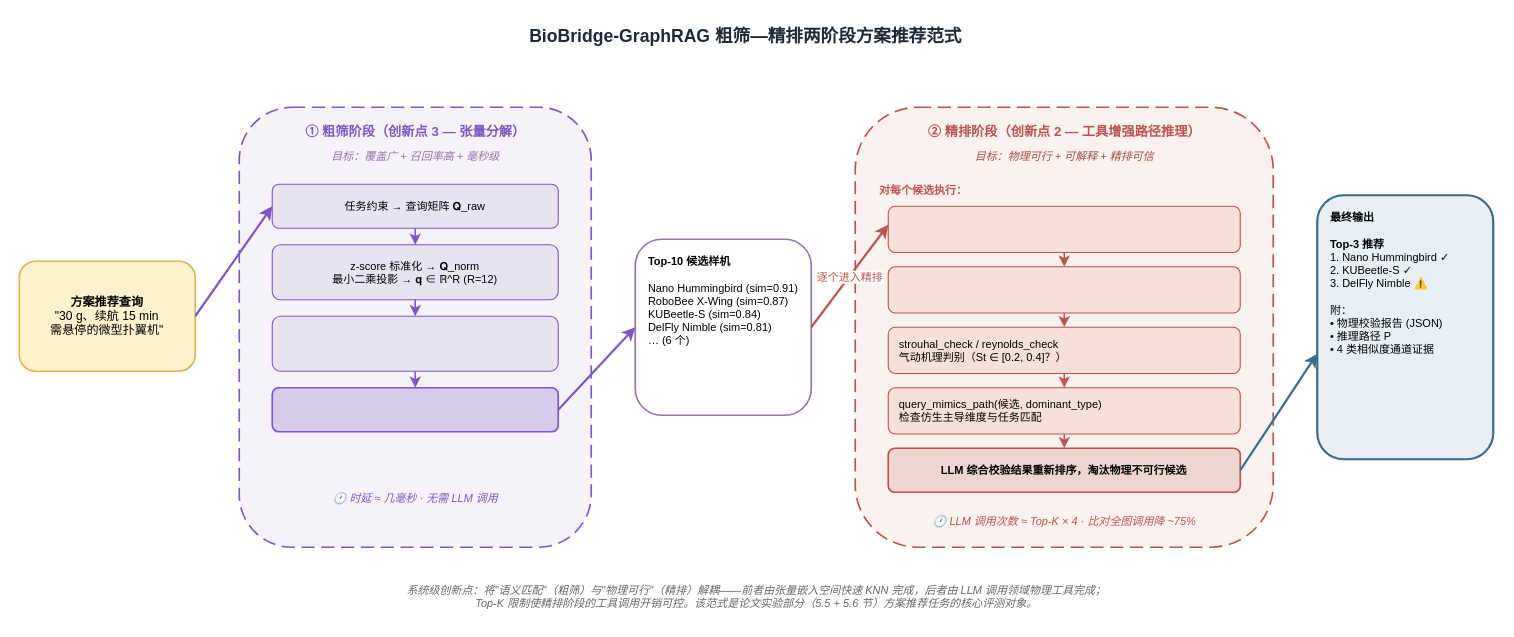
Some shapes in this 1514 by 637 pixel diagram are drawn without their labels. The box of each missing label's shape, as (x1, y1, x2, y2) in pixels:
hassanalian_weight(任务约束) 复核物理可行重量: (887, 205, 1240, 252)
shyy_scaling_law(候选重量) 比较候选参数与尺度律预测的偏离度: (887, 266, 1240, 313)
混合相似度 sim = 0.6·cos_raw + 0.4·cos_embed 对 39 架 FWMAV 排序: (271, 315, 558, 371)
返回 Top-K 候选（默认 K=10）: (271, 386, 559, 432)
